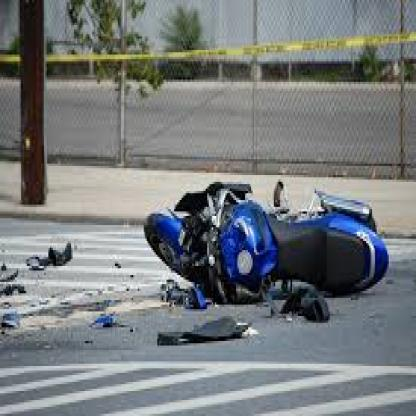accident: (131, 165, 408, 350)
